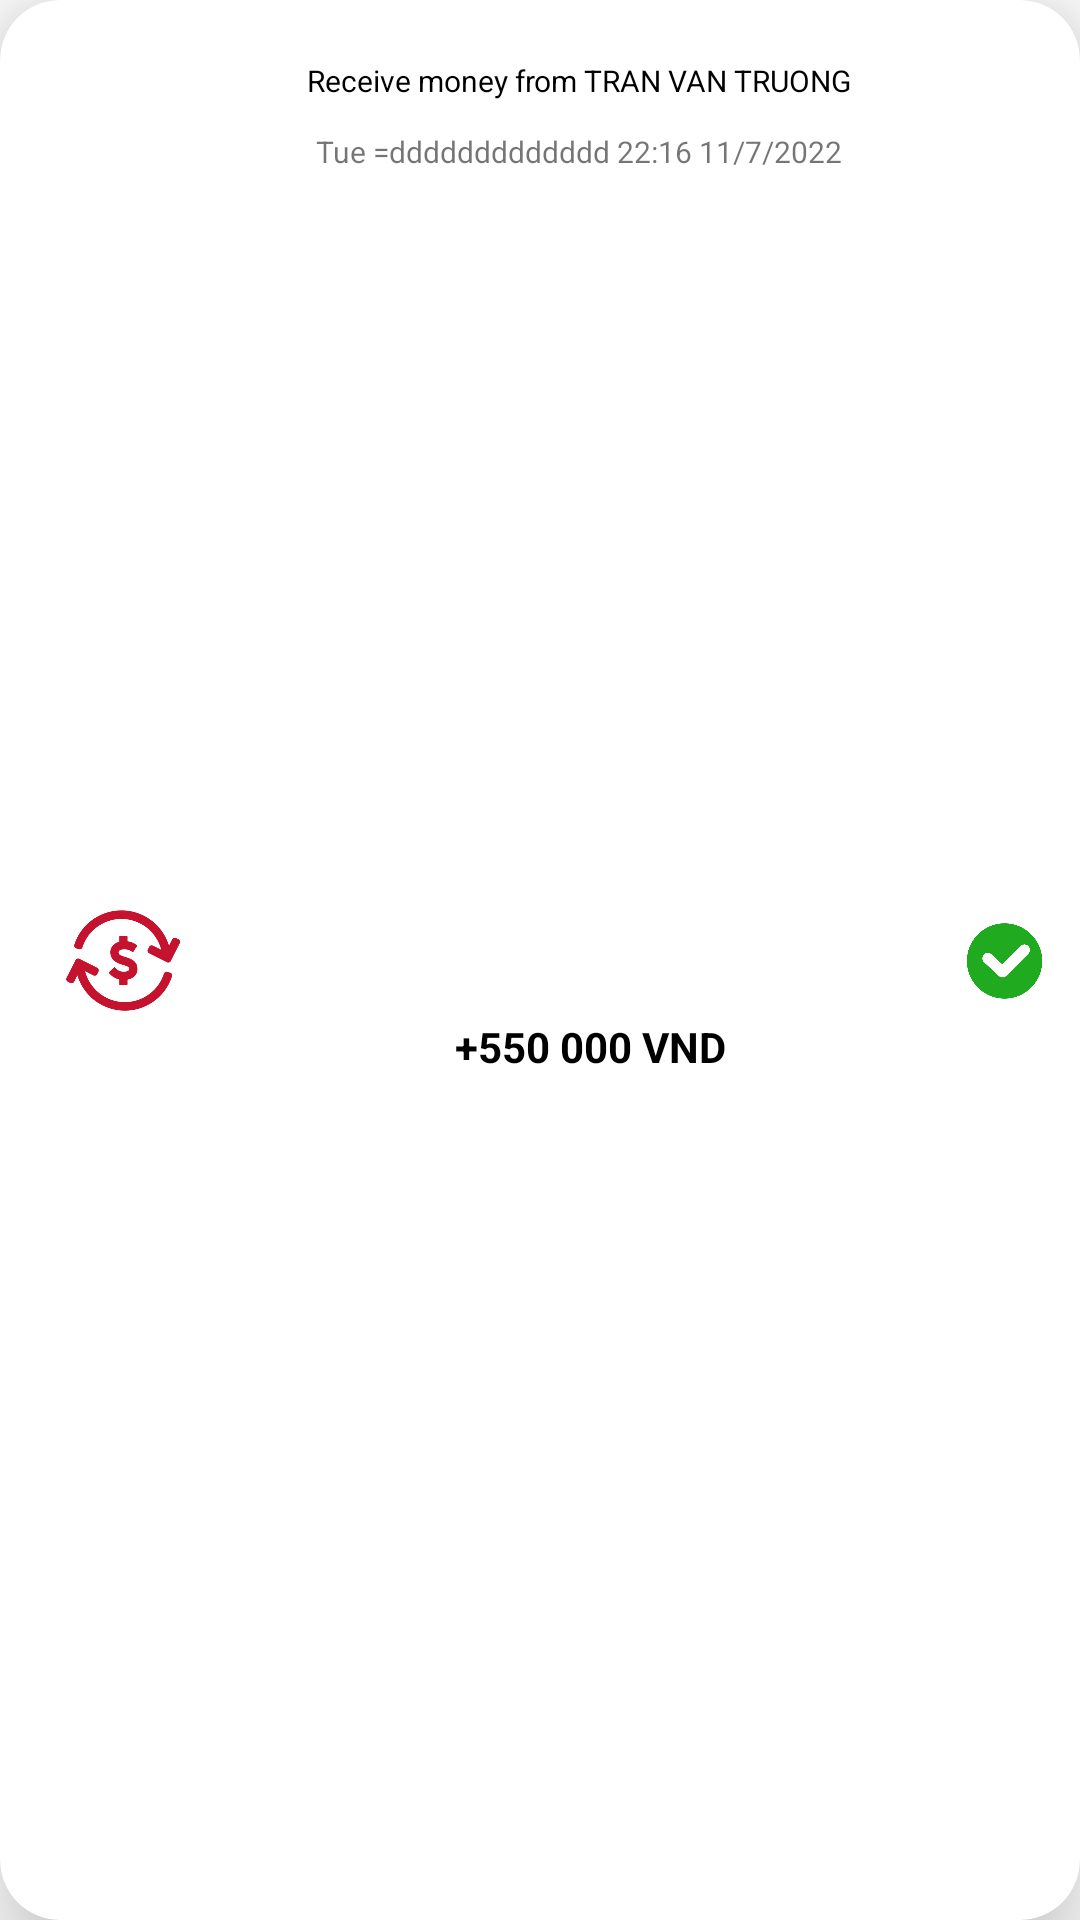

Point at icon controls on the screen. Image size 1080×1920, points as point (x, y).
check: point (1004, 961)
sendmoney: point (123, 960)
